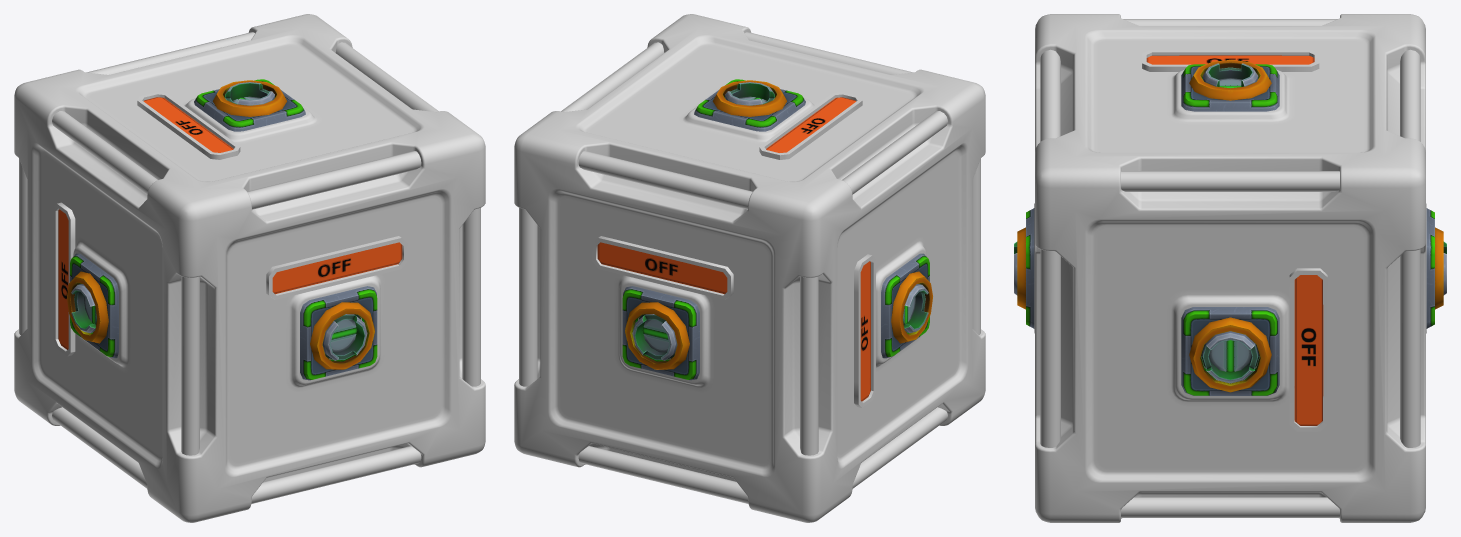
File: fant_recycler.fbx
The picture shows the model from 3 angles, left to right: view 1: azimuth 30°, elevation 25°; view 2: azimuth 150°, elevation 25°; view 3: azimuth 270°, elevation 25°; orthographic projection. The views are drawn at different scales.
Visible parts, largest first — view 1: fant_recycler; view 2: fant_recycler; view 3: fant_recycler.
Boxes of the visible parts, <box> form: fant_recycler: <box>14,14,485,522</box>; fant_recycler: <box>514,14,985,522</box>; fant_recycler: <box>1014,14,1446,522</box>.
Size of the model in its own units: 5.54 by 5.54 by 5.54.
